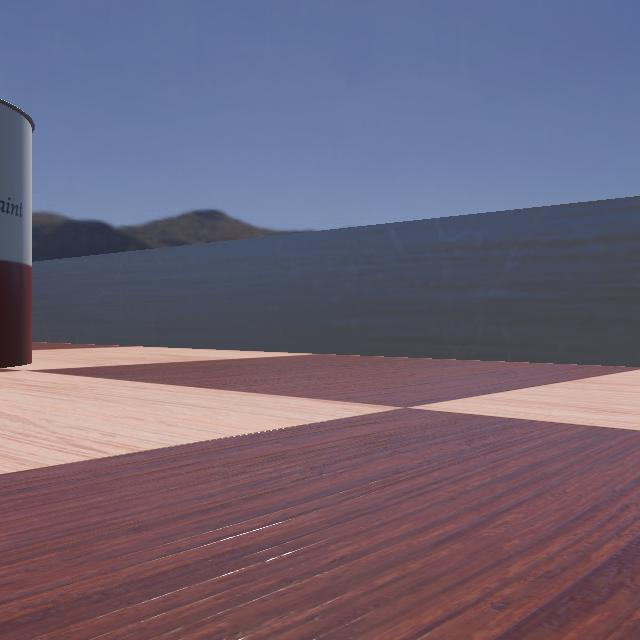paint-bucket: (0, 54, 94, 380)
